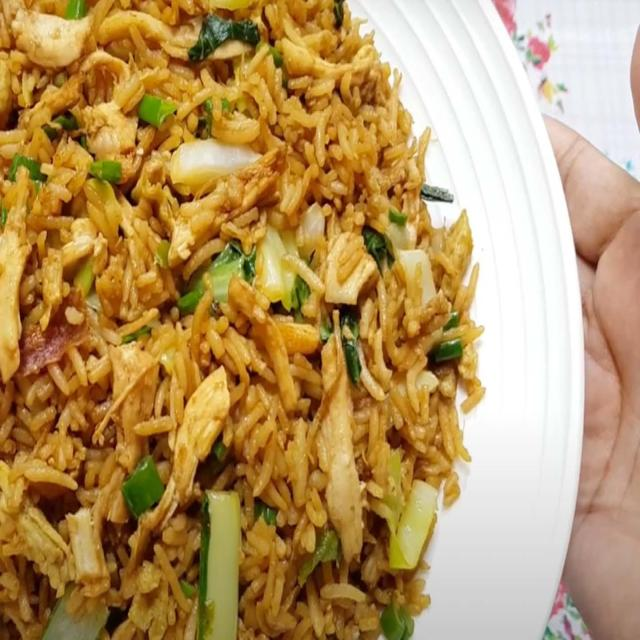Nasi Goreng: (1, 1, 486, 637)
